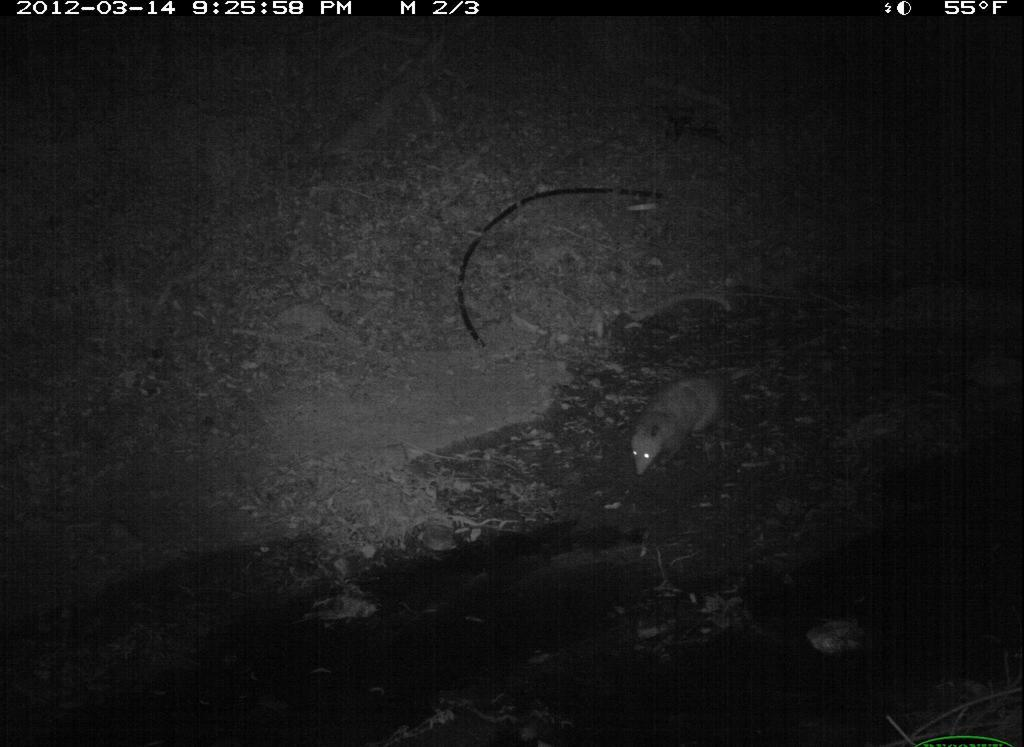opossum: (611, 355, 775, 483)
